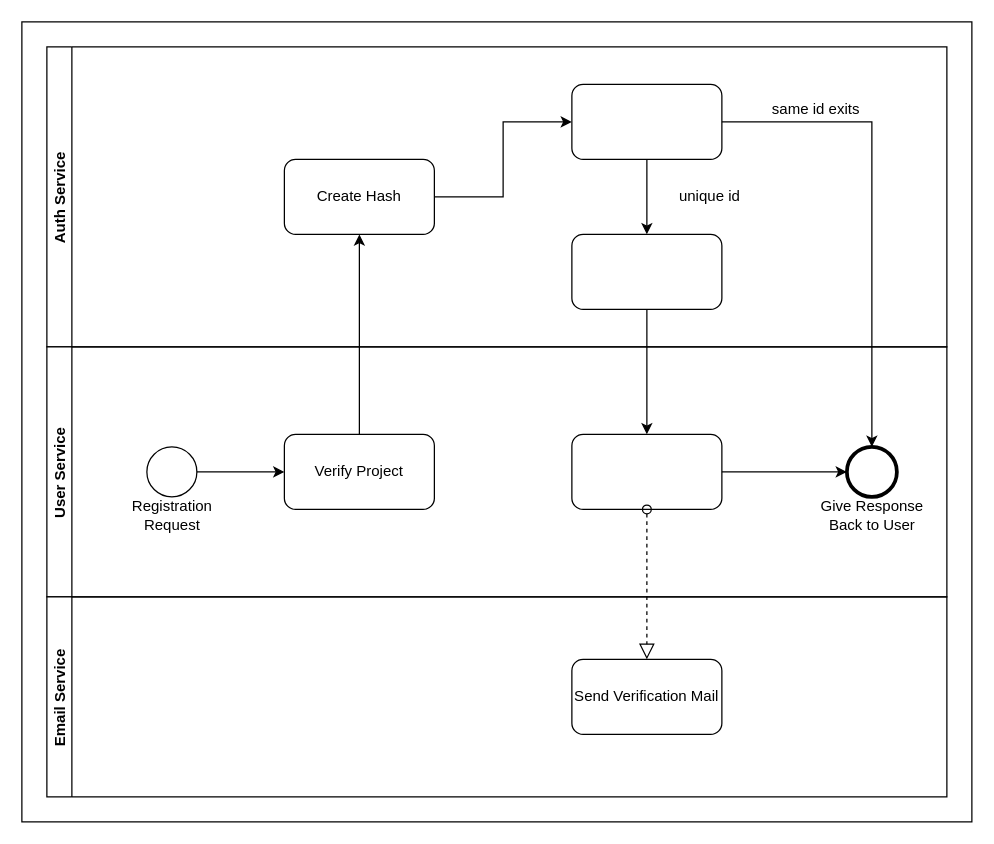
Image size: 994x844. Some labels were removed from this diagram. Each missing label, with the centre of its shape:
Add Hash to DB: (646,271)
Add User data for the project id to DB: (646,471)
Check if same id exits: (646,121)
